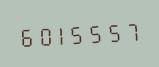five: (71, 20, 88, 46), (89, 19, 106, 45), (107, 18, 124, 44)
one: (53, 21, 70, 47)
seven: (125, 17, 142, 43)
six: (17, 23, 34, 49)
zero: (35, 22, 52, 48)
